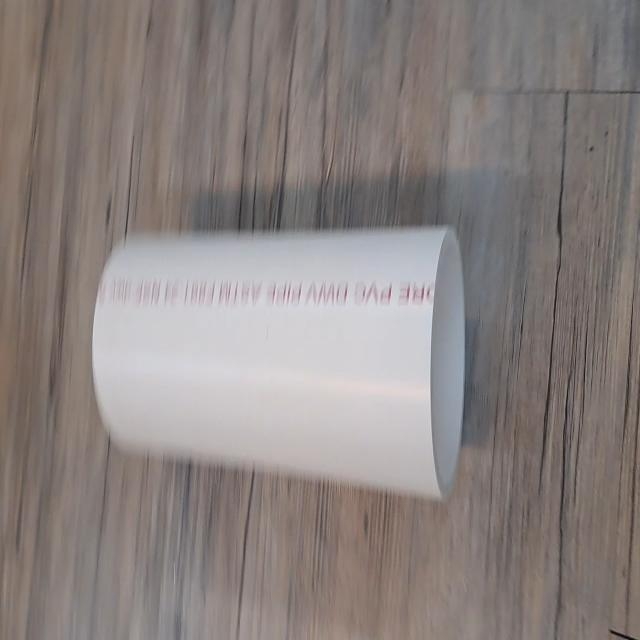CORAL: (85, 224, 476, 506)
